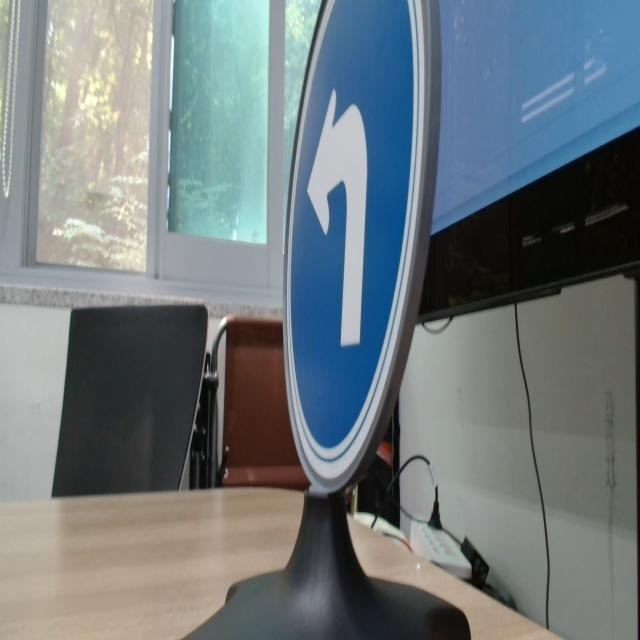left_direction: (274, 0, 428, 497)
